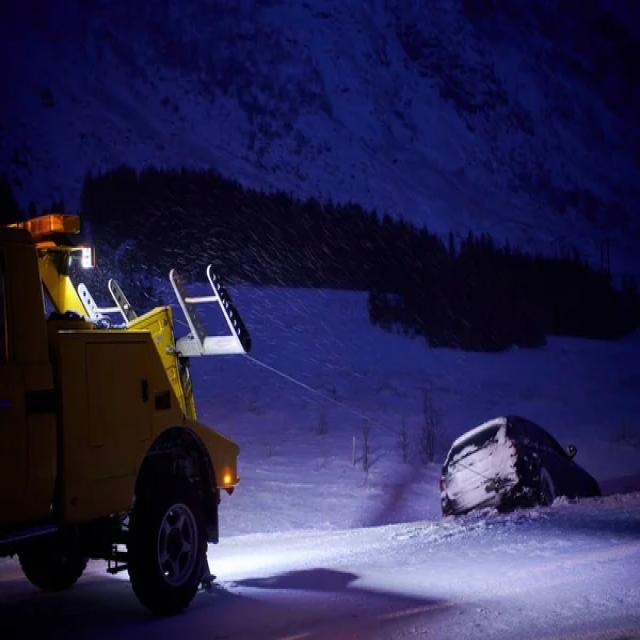Accident: (438, 407, 604, 530)
